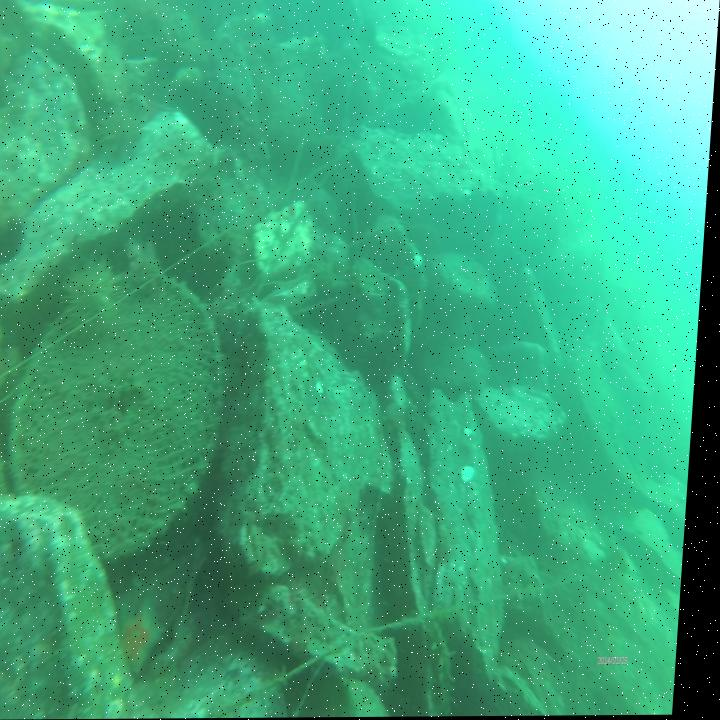echinus: (59, 253, 128, 337)
starfish: (120, 588, 181, 675)
